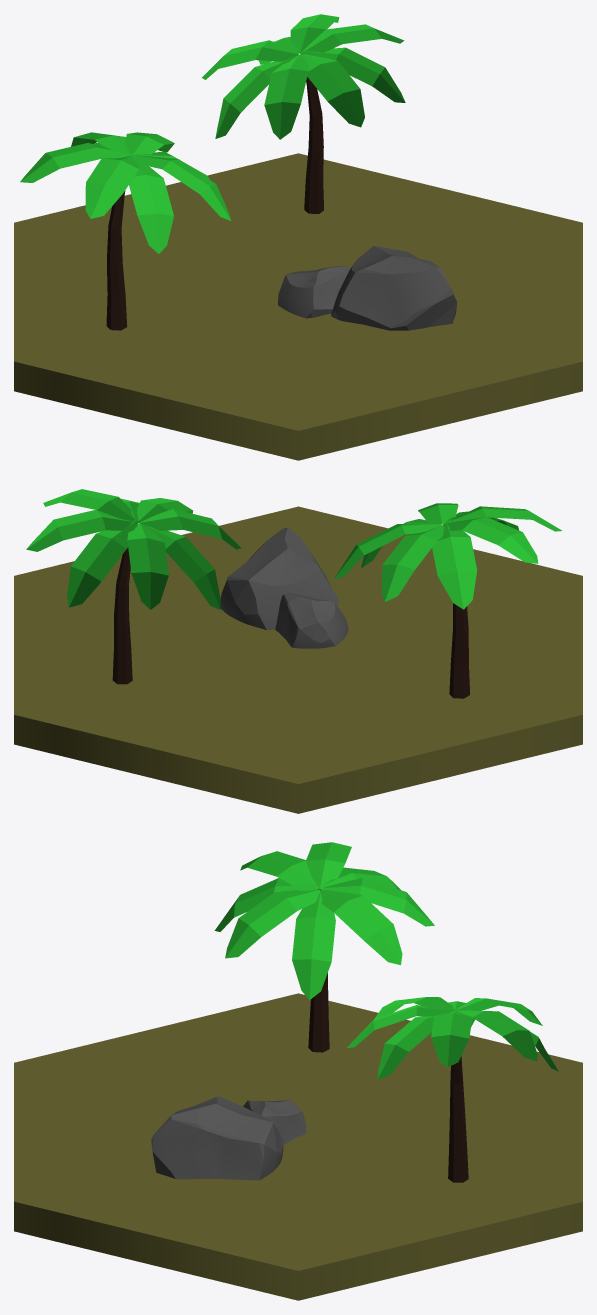
The model's file is Tile_12.FBX.
3 views of the same model, one above another, from view 1: azimuth 30°, elevation 25°; view 2: azimuth 150°, elevation 25°; view 3: azimuth 270°, elevation 25° (orthographic).
Parts seen in each view (by area): view 1: Ground; view 2: Ground; view 3: Ground.
Part boxes in pixels (bbox=[...]): Ground: bbox=[14, 14, 582, 460]; Ground: bbox=[14, 489, 582, 813]; Ground: bbox=[14, 842, 582, 1300].
Size of the model in its own units: 39.37 by 15.05 by 34.1.
